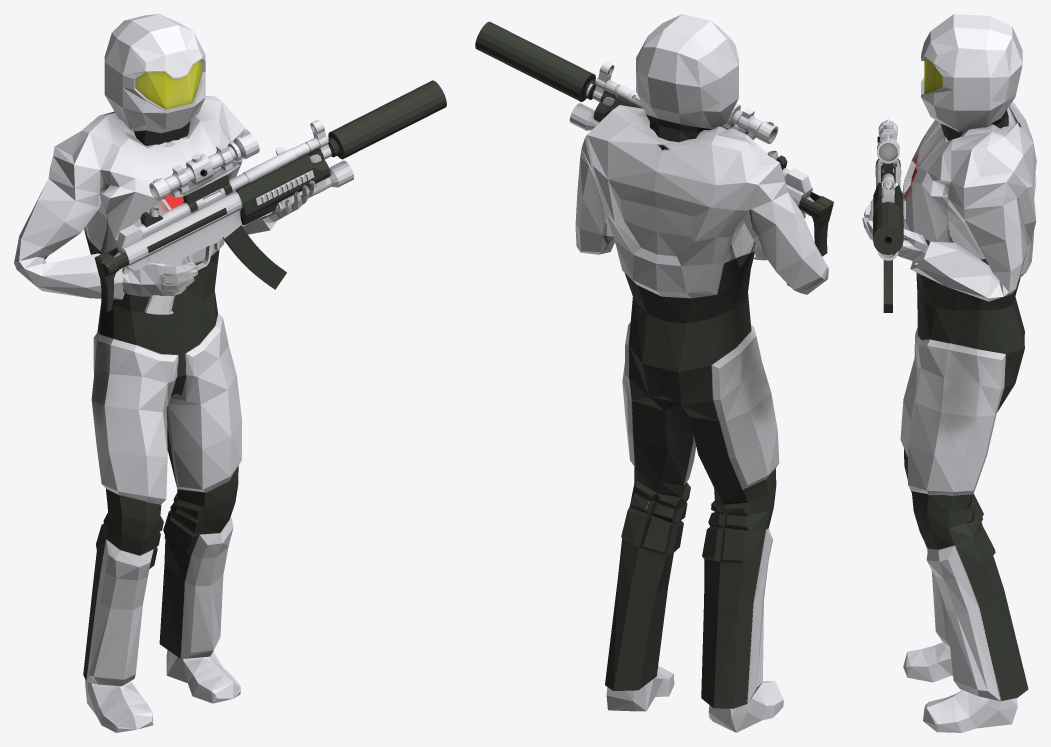
Rendered from walk0.obj.
3 renders of one model, left to right at view 1: azimuth 30°, elevation 25°; view 2: azimuth 150°, elevation 25°; view 3: azimuth 270°, elevation 25°, orthographic.
Parts seen in each view (by area): view 1: Male001Skin_001, Object001; view 2: Male001Skin_001, Object001; view 3: Male001Skin_001, Object001.
Part boxes in pixels (x1,y1,x2,y2): Male001Skin_001: (14, 14, 315, 732); Object001: (94, 80, 446, 314); Male001Skin_001: (575, 14, 828, 732); Object001: (475, 21, 833, 260); Male001Skin_001: (862, 14, 1036, 732); Object001: (870, 117, 905, 312).
Size of the model in its own units: 1111 by 1880 by 439.
Materials: 1 (1 with a texture image).
